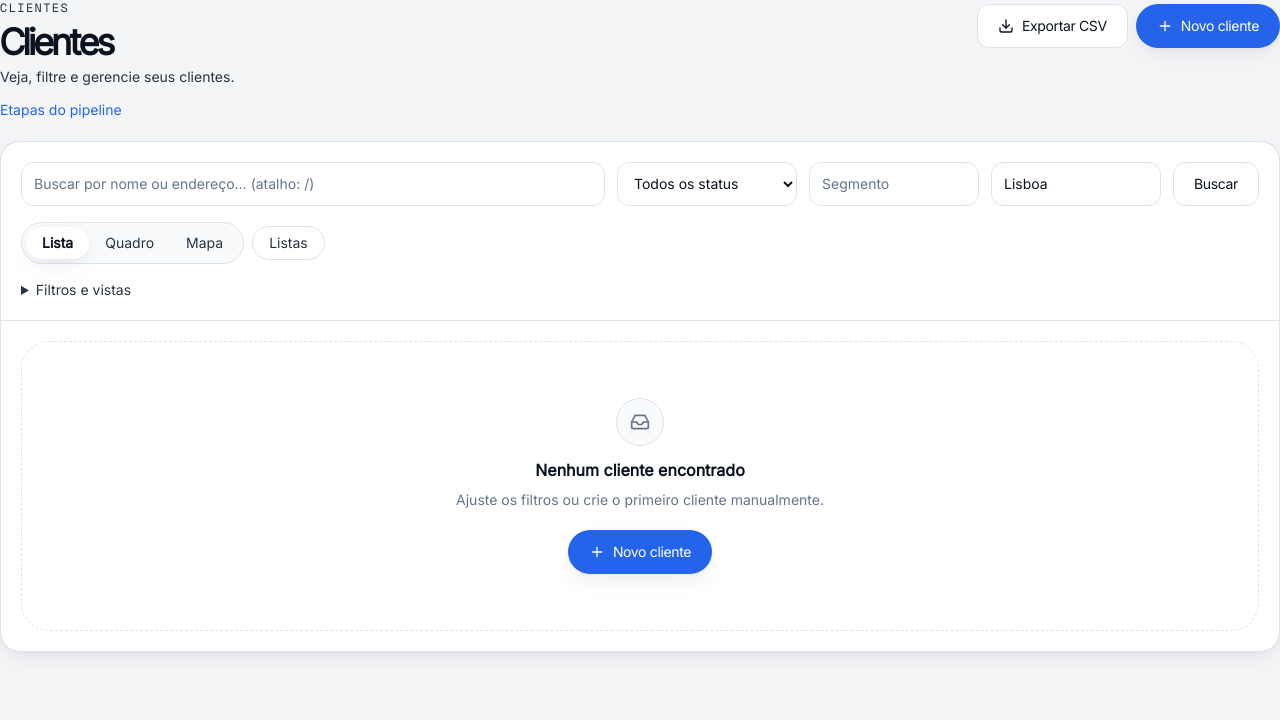
Test: LeadsPage saved views › hides save and archive actions for VIEWER while still applying a team view
Click the heading "Filtros e vistas": {"x": 83, "y": 289} [36,281,131,298]
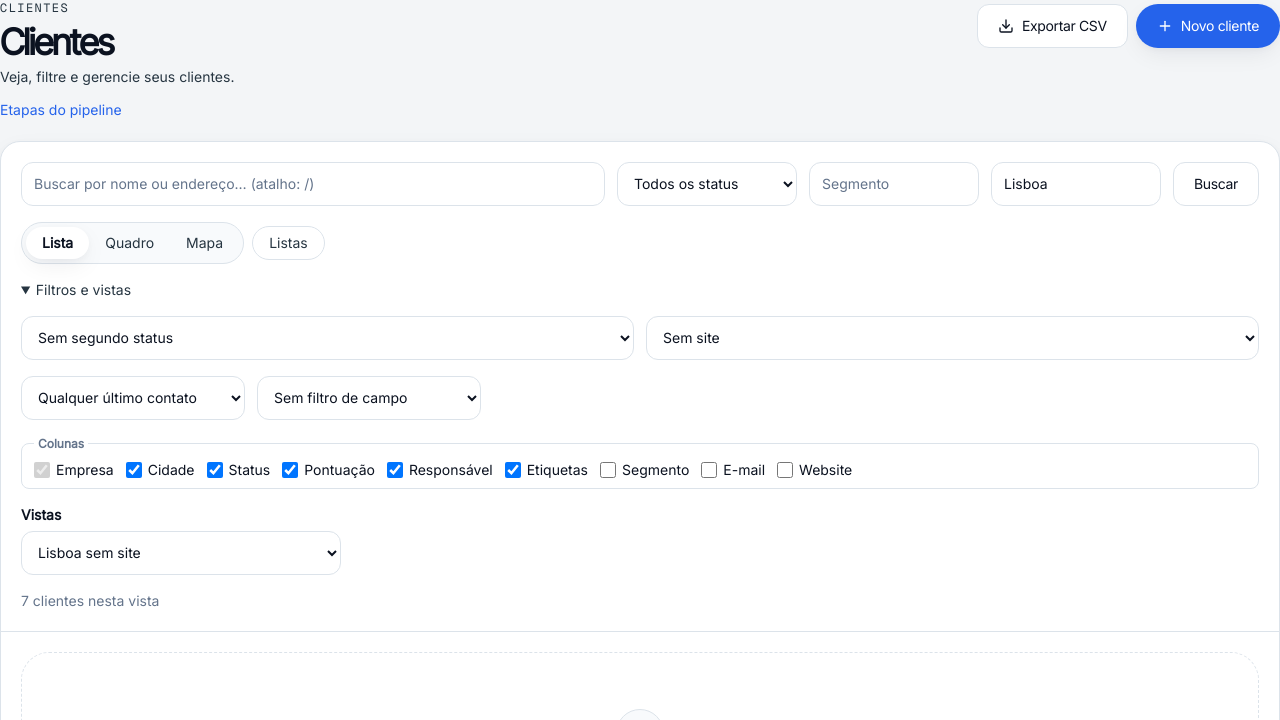
Expected: the dropdown labelled "Vistas" shows "Lisboa sem site", [21,531,341,575]
